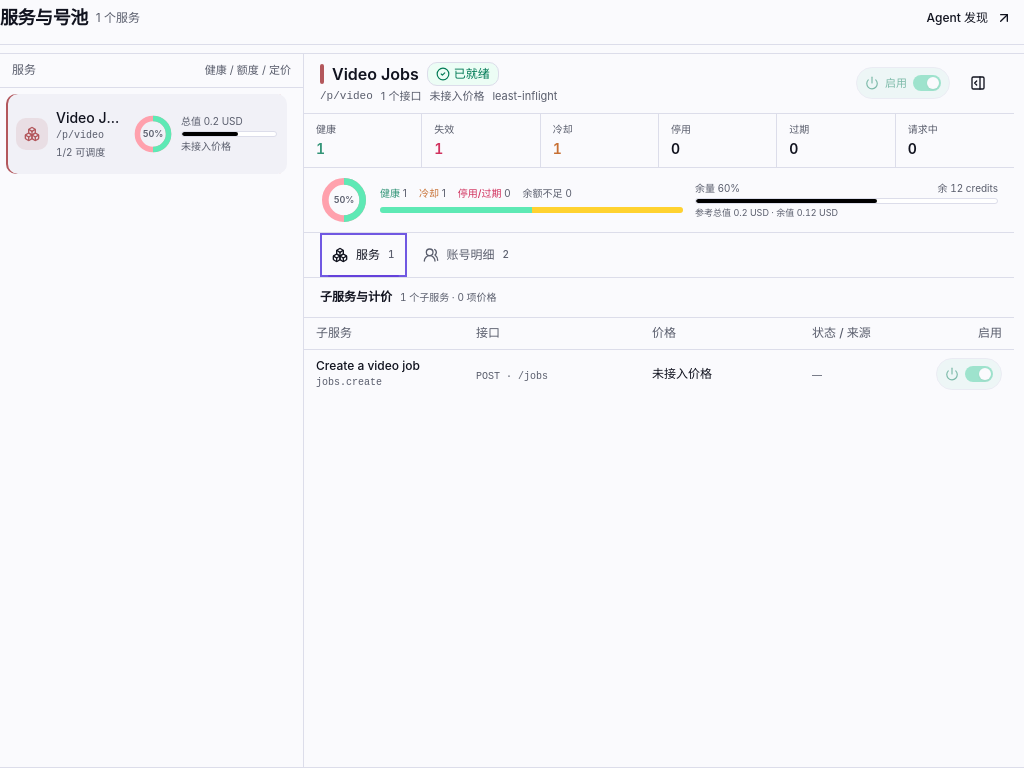
Test: ProtocolsPage master-detail pool console › shows account details and child services as sibling tabs while preserving pricing
The image size is (1024, 768).
Check: the heading "Video Jobs" is shown, box [332,62,419,86]
Check: the number of pictures named "Video Jobs 健康 1，失效 1" is 2, box [133,114,173,154]; [320,176,368,224]
Press Arrowright
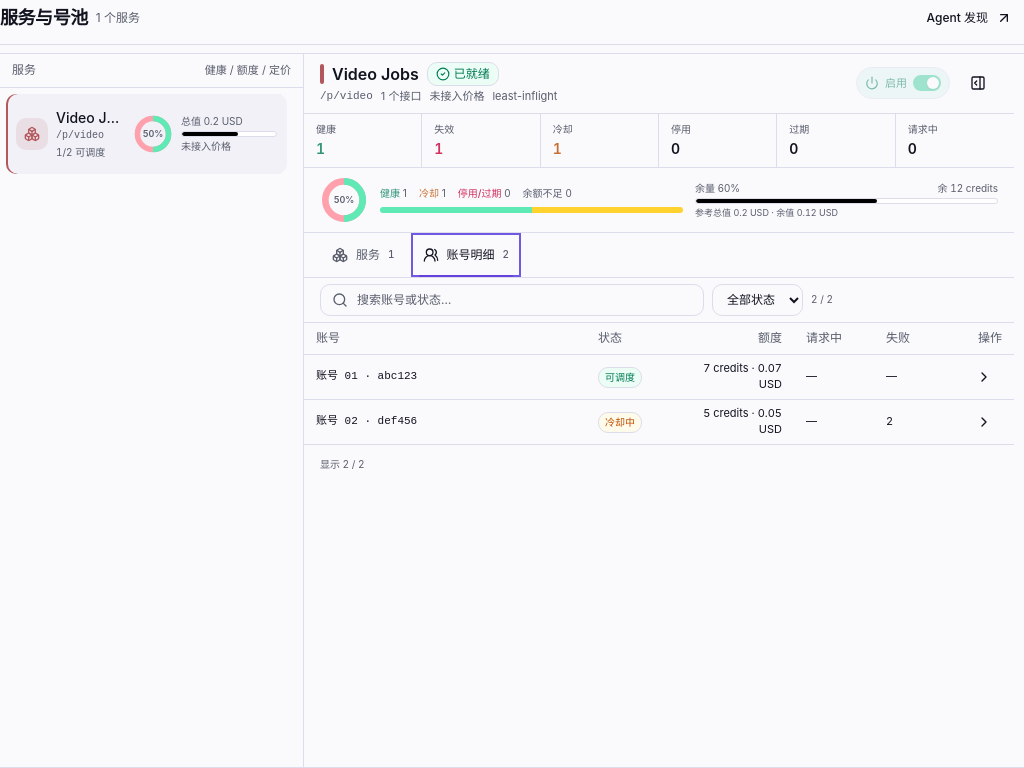
Check: the panel named "账号明细" is shown, box [304,278,1014,484]
Check: the button "账号 01 · abc123" is shown, box [316,359,574,395]
Check: the text "7 credits · 0.07 USD" is shown, box [703,361,782,391]
Press Home
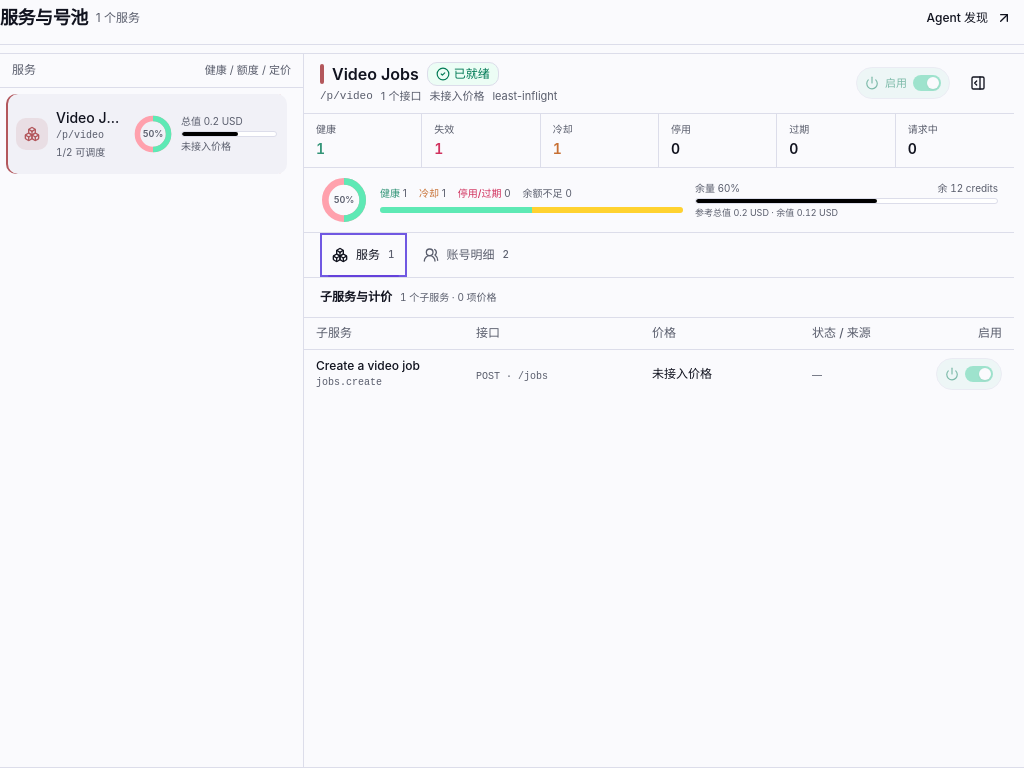
Check: the tab "服务 1" is selected, box [320,232,406,276]
Press End
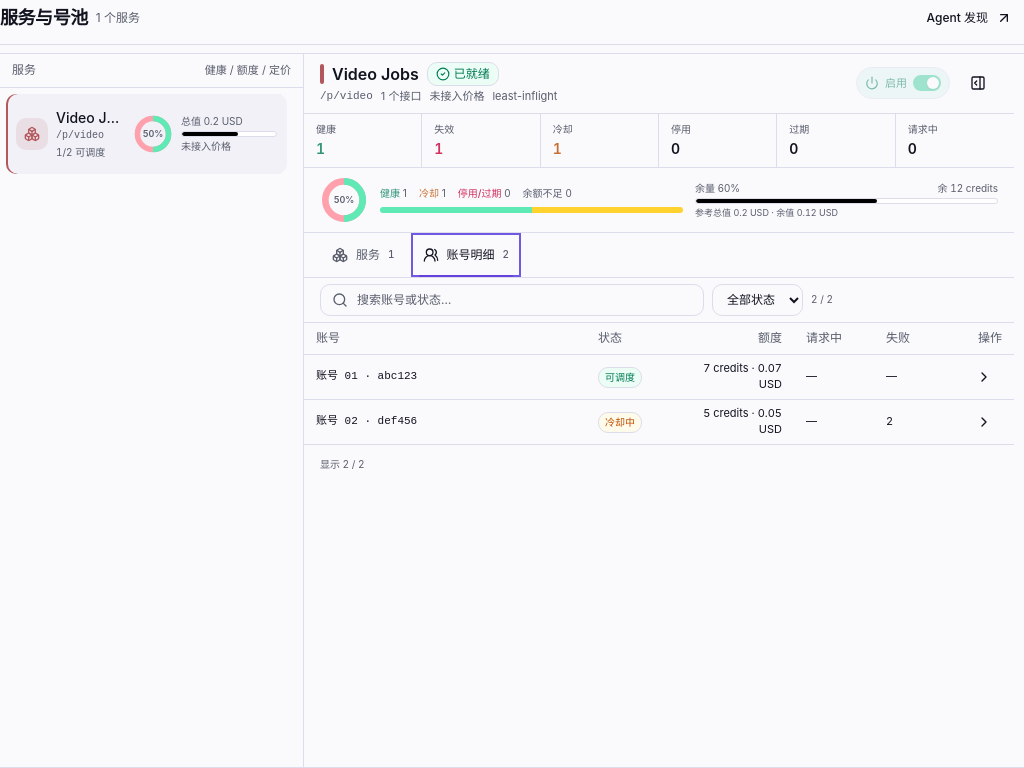
Check: the tab "账号明细 2" is selected, box [410,232,521,276]
Click the button named "查看 Video Jobs 详情": point(978, 83) [958,63,998,103]
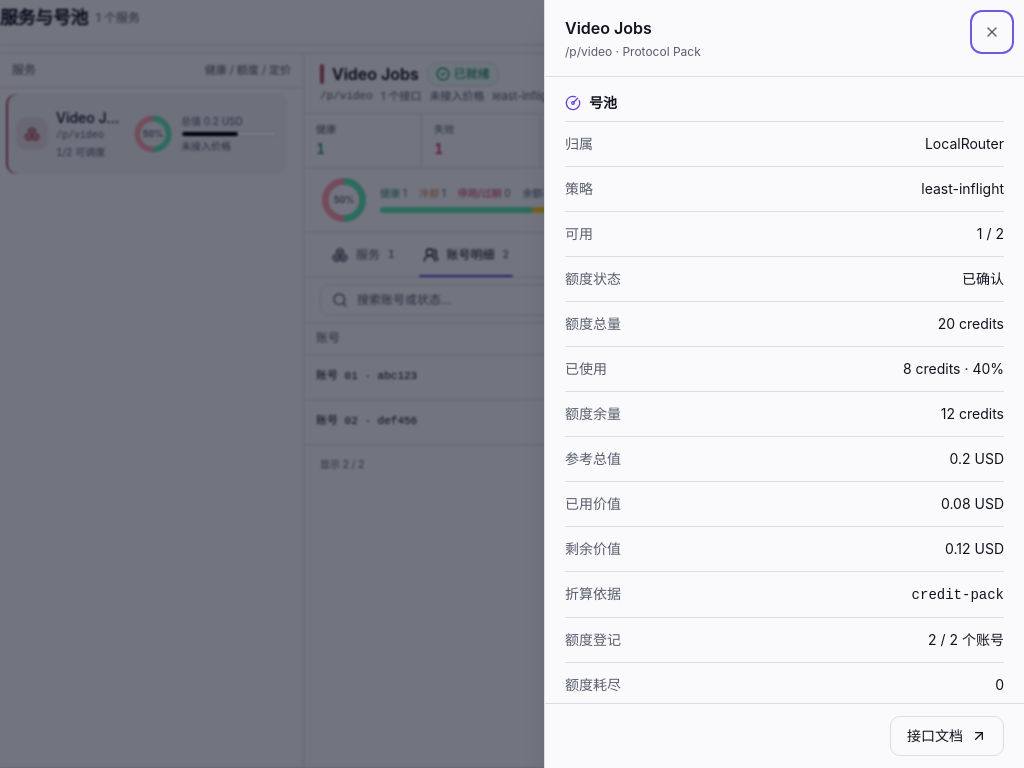
Check: the link "接口文档" is shown, box [890,716,1004,756]
